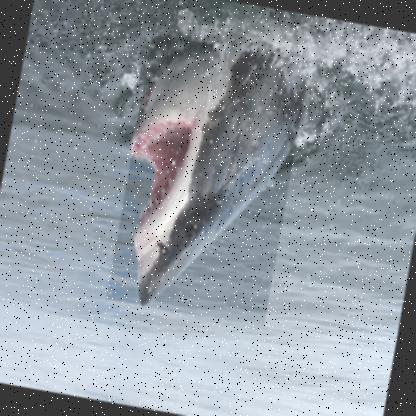white-shark: (105, 32, 310, 326)
